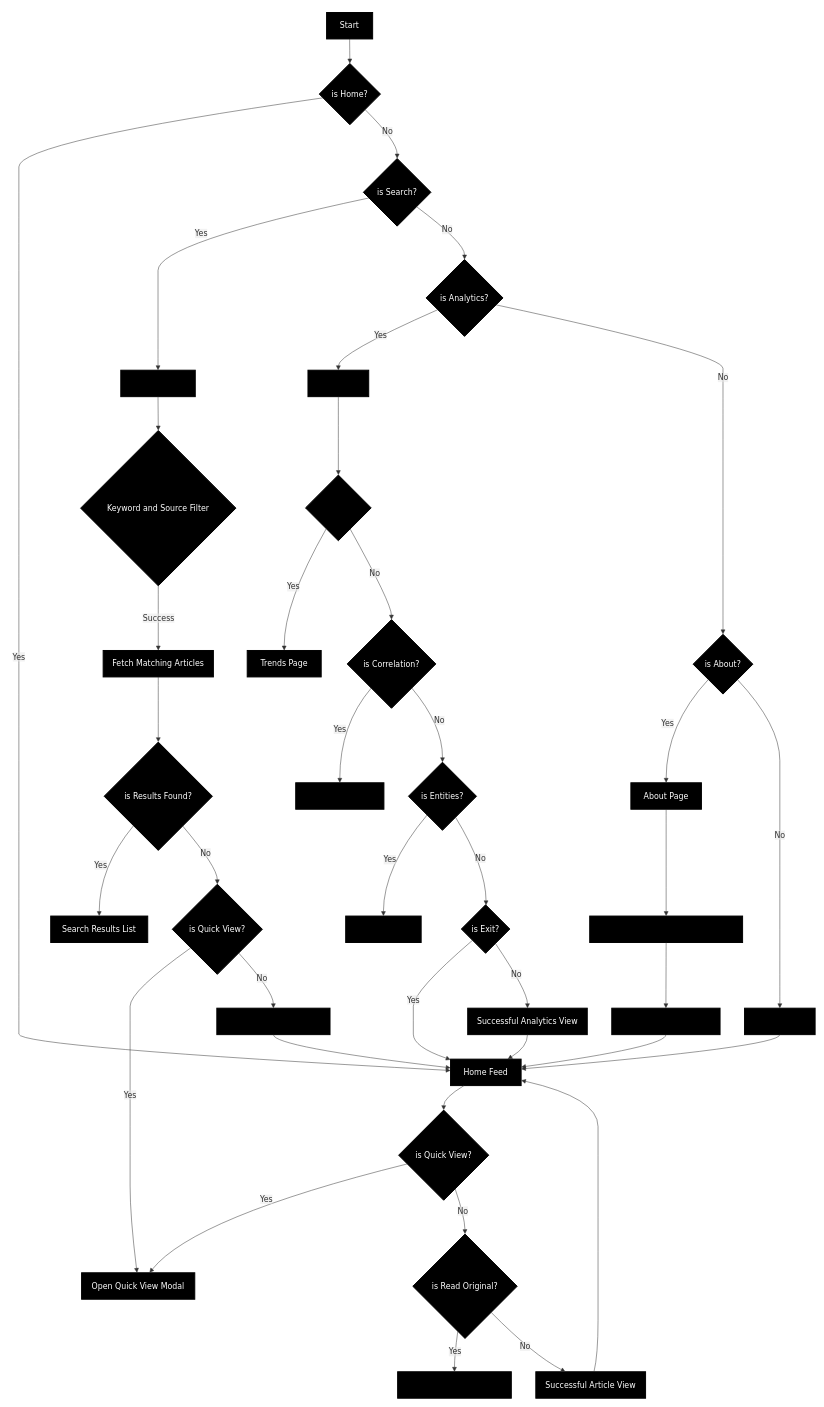
Image size: 824x1407. Some labels were removed from this diagram. Each missing label, with the box of its shape:
Analytics: (307, 369, 369, 397)
Correlation Page: (295, 782, 384, 809)
Entities Page: (345, 915, 421, 943)
Home Page: (744, 1007, 815, 1035)
is Trends?: (305, 474, 371, 541)
Open Publisher Website: (397, 1371, 512, 1398)
Search Page: (120, 369, 196, 397)
Successful About View: (611, 1007, 720, 1035)
Successful Search View: (216, 1007, 330, 1035)
View System and Method Overview: (589, 915, 743, 943)
